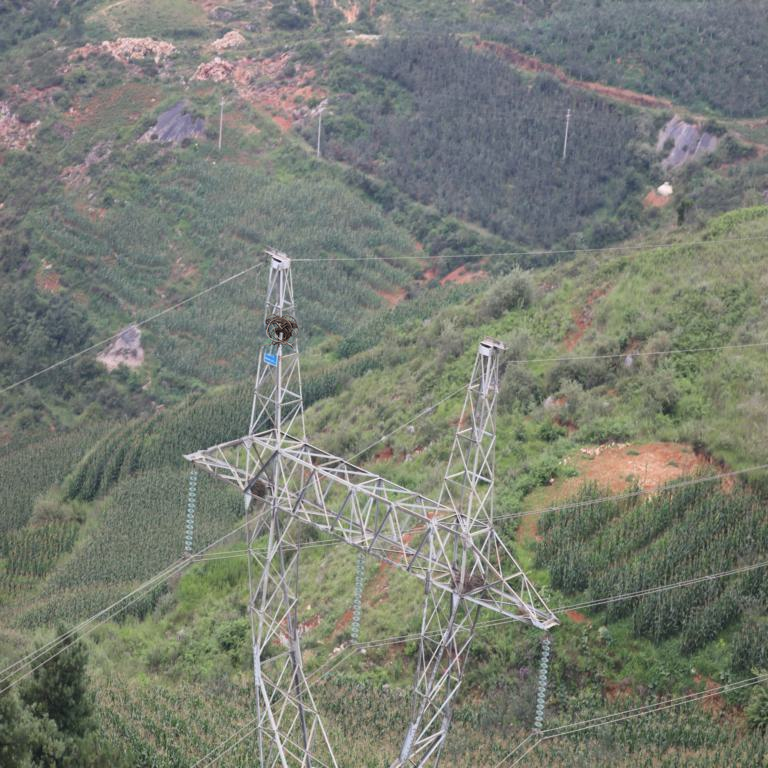nest: (266, 313, 299, 345), (452, 567, 484, 592), (247, 477, 268, 496)
